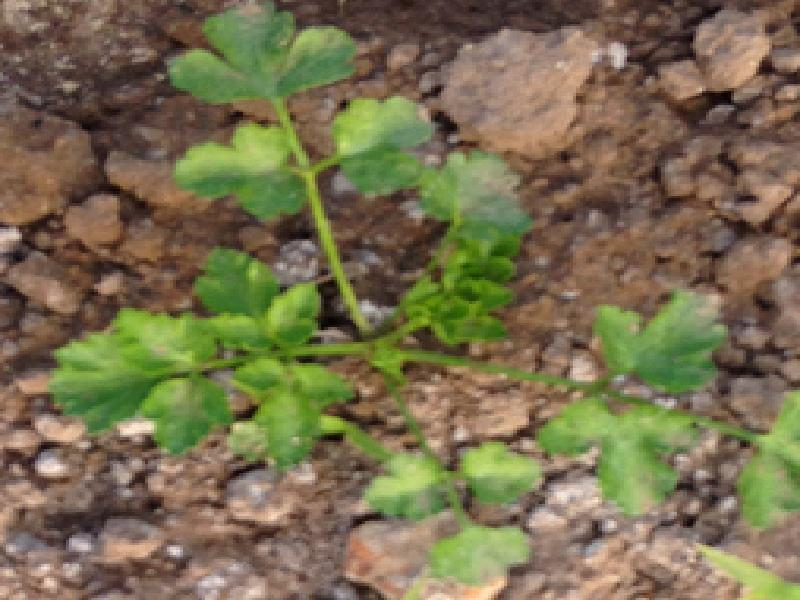radish: (8, 0, 761, 537)
